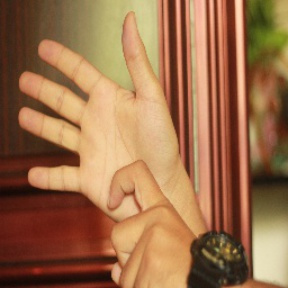R: (15, 9, 194, 288)
